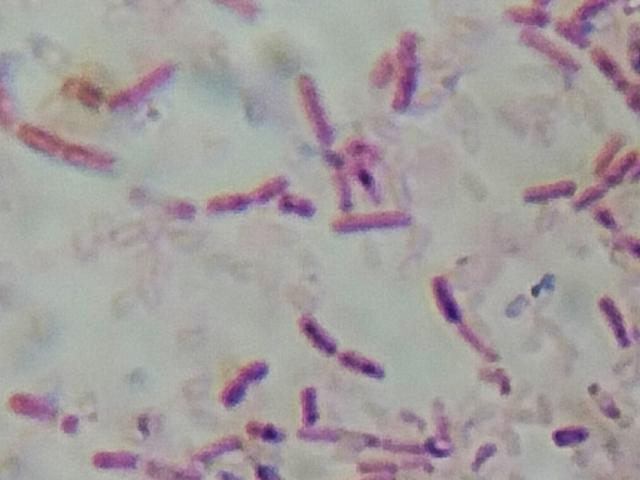E. coli: (433, 267, 493, 349), (308, 426, 453, 458), (8, 391, 86, 437), (109, 64, 179, 110), (207, 358, 273, 401), (297, 68, 331, 148), (595, 48, 638, 110), (332, 208, 416, 236), (204, 179, 286, 207), (520, 29, 572, 68), (560, 0, 602, 48), (134, 182, 192, 216), (20, 119, 59, 163), (552, 420, 591, 462), (525, 171, 573, 202), (90, 449, 149, 473), (334, 345, 379, 376), (202, 429, 243, 463), (616, 138, 640, 196), (65, 140, 107, 172), (356, 155, 384, 203), (299, 315, 332, 354), (247, 414, 296, 440), (332, 152, 354, 205), (590, 131, 620, 166), (280, 190, 316, 215), (514, 0, 551, 24), (575, 181, 607, 207), (299, 384, 324, 417)
